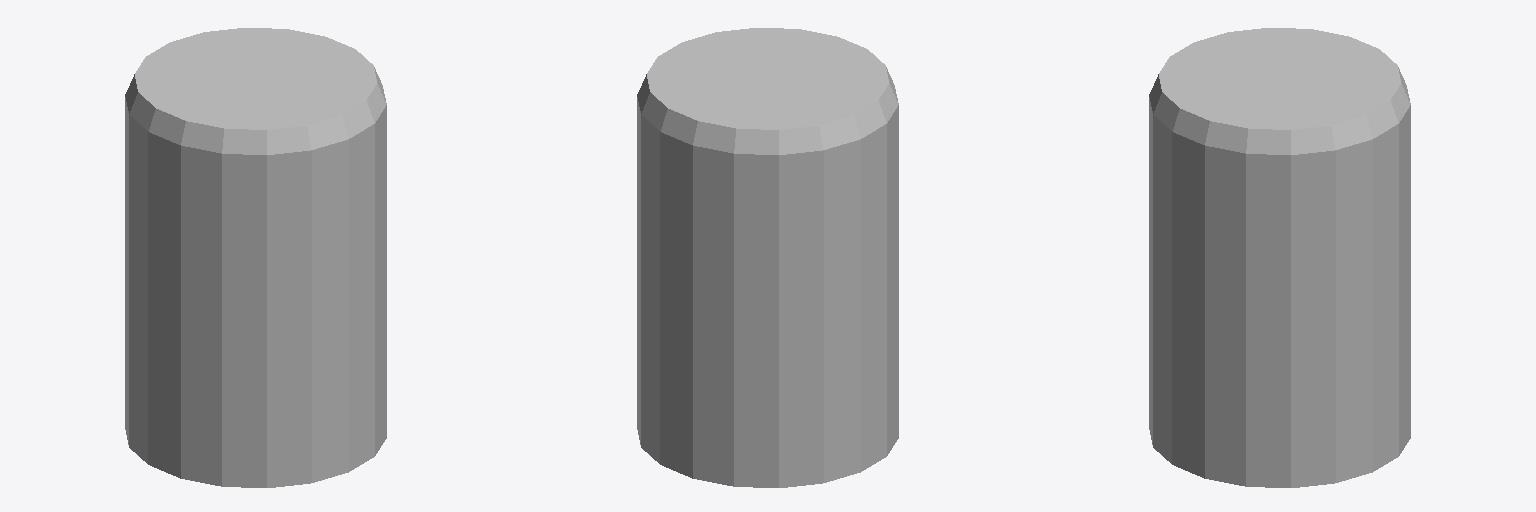
File: jar.obj
3 renders of one model, left to right at view 1: azimuth 30°, elevation 25°; view 2: azimuth 150°, elevation 25°; view 3: azimuth 270°, elevation 25°, orthographic.
Visible parts, largest first — view 1: Cylinder038; view 2: Cylinder038; view 3: Cylinder038.
Boxes of the visible parts, box(x1,y1,x2,y2) form: Cylinder038: box(125, 28, 386, 487); Cylinder038: box(637, 28, 898, 487); Cylinder038: box(1149, 28, 1410, 487).
Bounding box in the file's own units: 15.38 × 22.98 × 15.38.